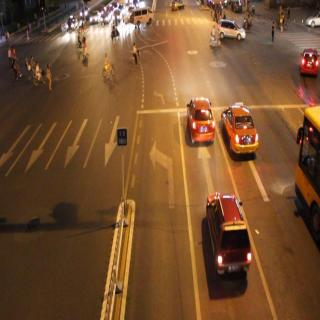BigCar: (300, 106, 320, 276)
Car: (204, 186, 254, 278), (219, 101, 261, 166), (178, 85, 217, 153), (215, 13, 249, 50), (298, 44, 320, 97), (130, 8, 156, 26), (306, 8, 320, 37), (172, 0, 188, 14)
